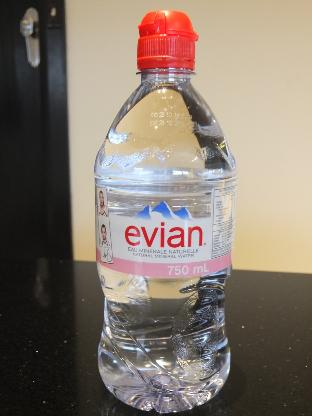Plastic Bottle: (94, 10, 234, 414)
